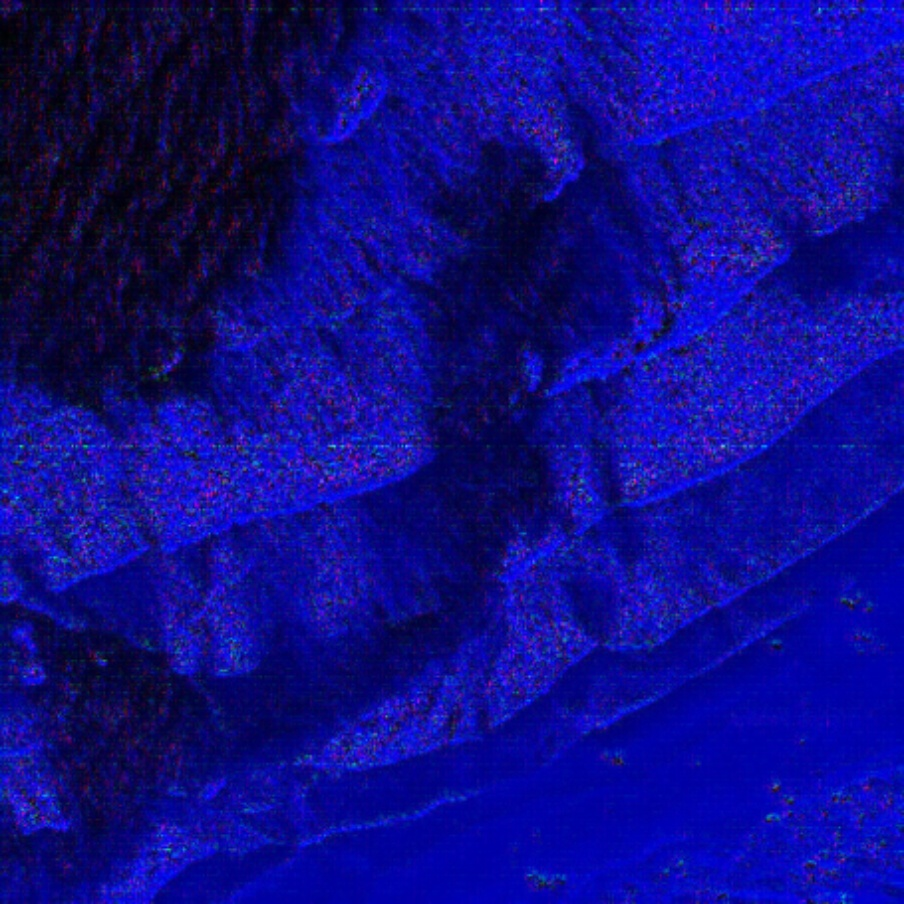rip_current: (253, 116, 707, 706)
